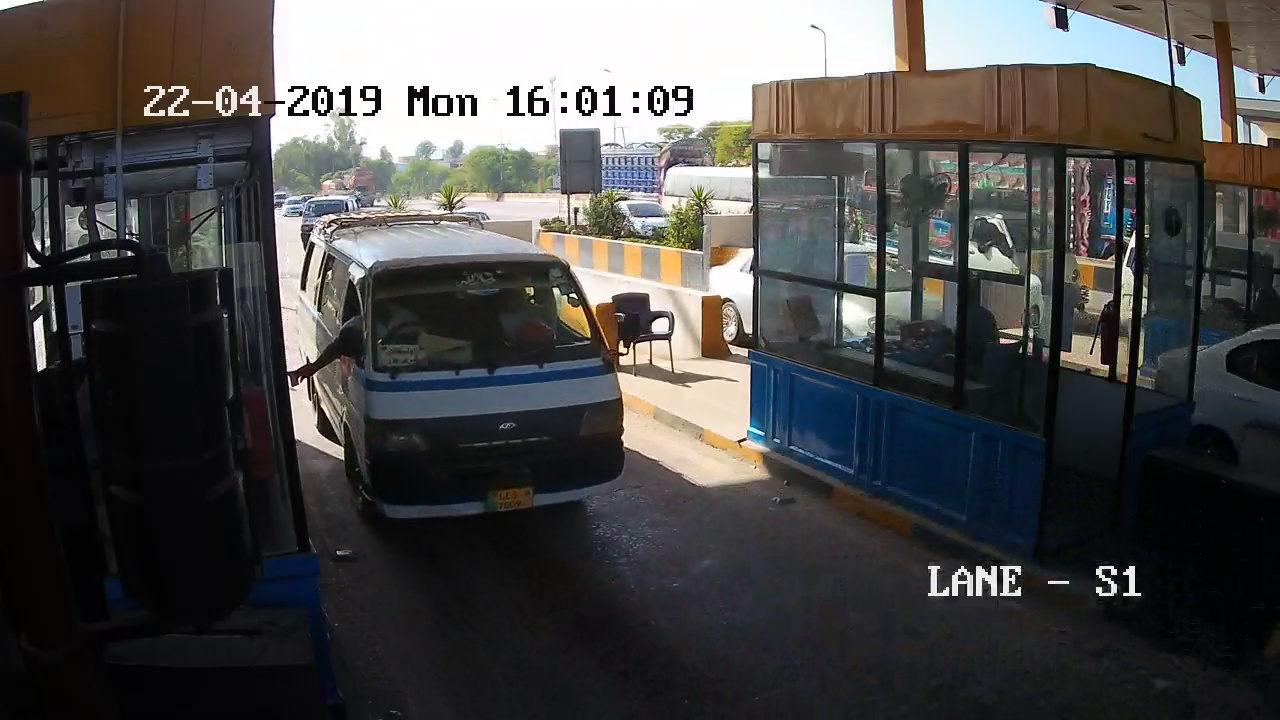car: (282, 204, 656, 563)
